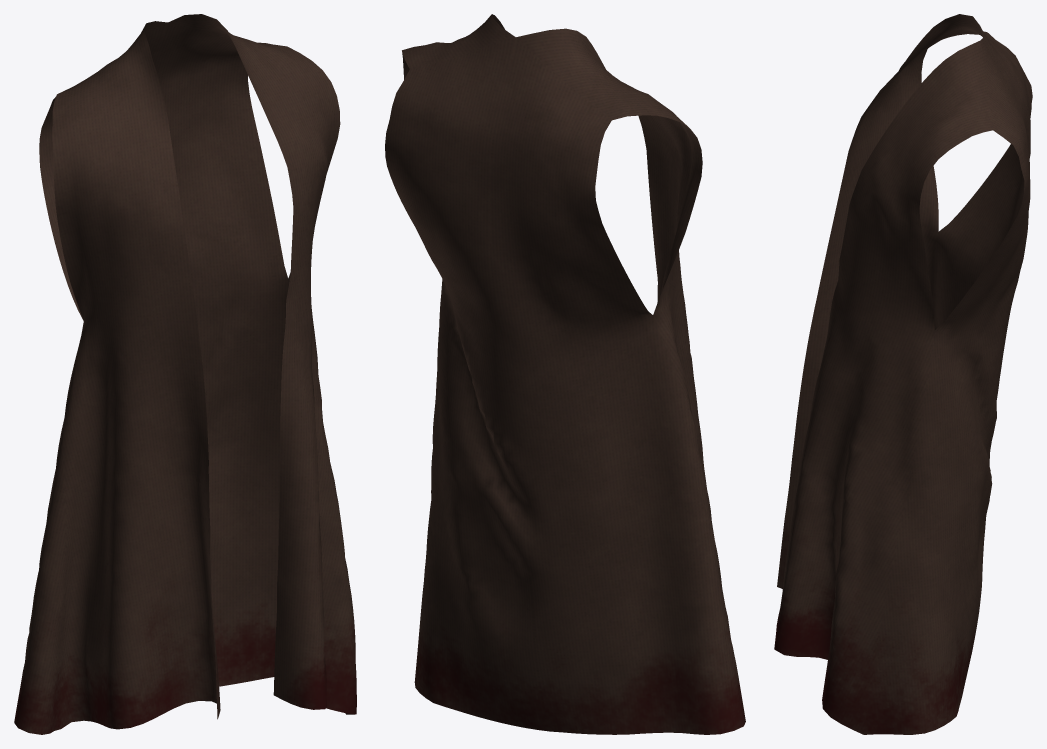
Rendered from jacket.fbx.
The picture shows the model from 3 angles, left to right: view 1: azimuth 30°, elevation 25°; view 2: azimuth 150°, elevation 25°; view 3: azimuth 270°, elevation 25°; orthographic projection. The views are drawn at different scales.
Parts seen in each view (by area): view 1: main_clothes2:Pattern2D_4712629; view 2: main_clothes2:Pattern2D_4712629; view 3: main_clothes2:Pattern2D_4712629.
Part boxes in pixels (x1,y1,x2,y2): main_clothes2:Pattern2D_4712629: [14, 14, 356, 734]; main_clothes2:Pattern2D_4712629: [385, 14, 745, 734]; main_clothes2:Pattern2D_4712629: [774, 14, 1032, 734].
Size of the model in its own units: 54.17 by 110 by 39.43.
